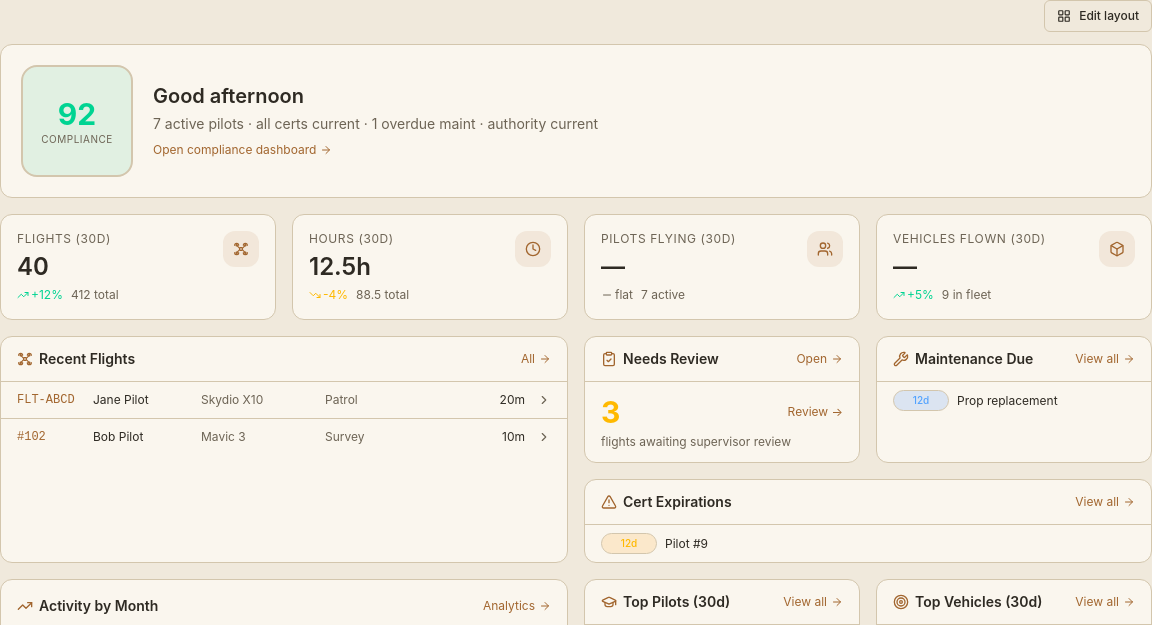
DashboardPage › arranging › lets an admin save the unit default
Expected: the text "7 active pilots" is shown, [153,115,244,132]
Click the button "Edit layout".
click(1098, 16)  # box [1044,0,1151,32]
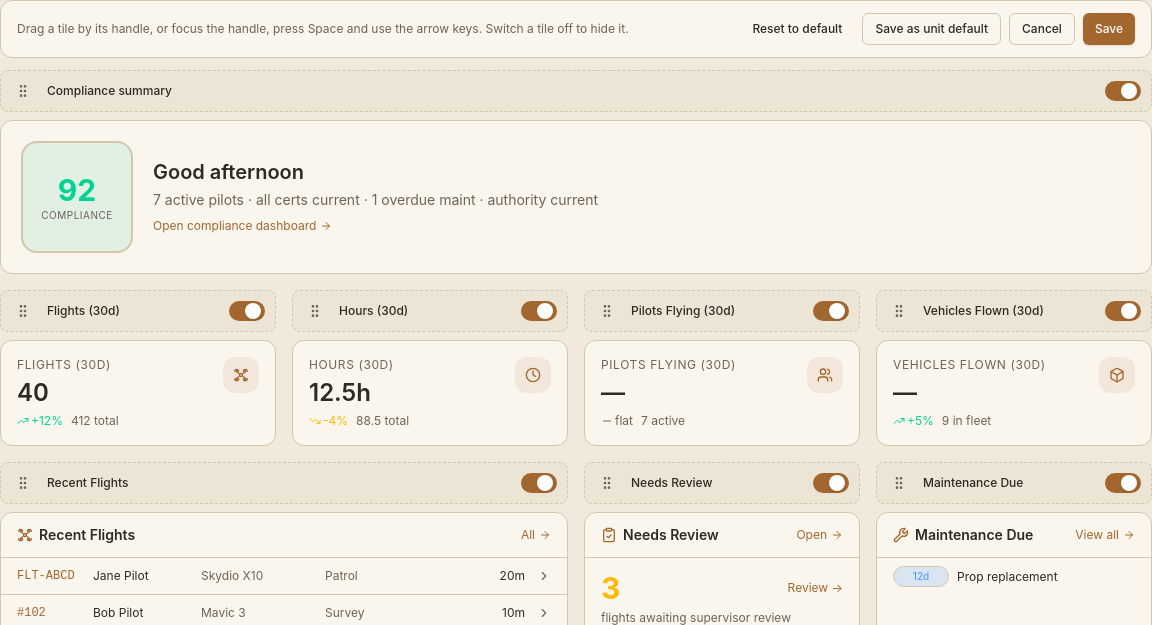
Click the button "Save as unit default".
click(932, 29)  # box [862,13,1001,45]
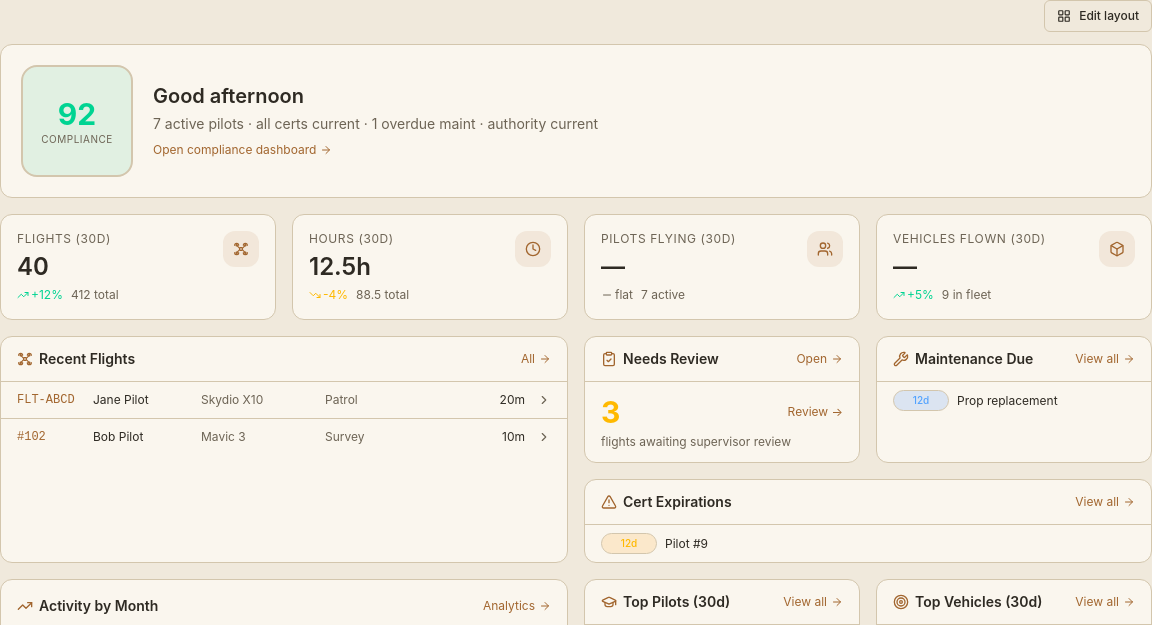
Now the button "Edit layout" is shown, box [1044,0,1151,32]
